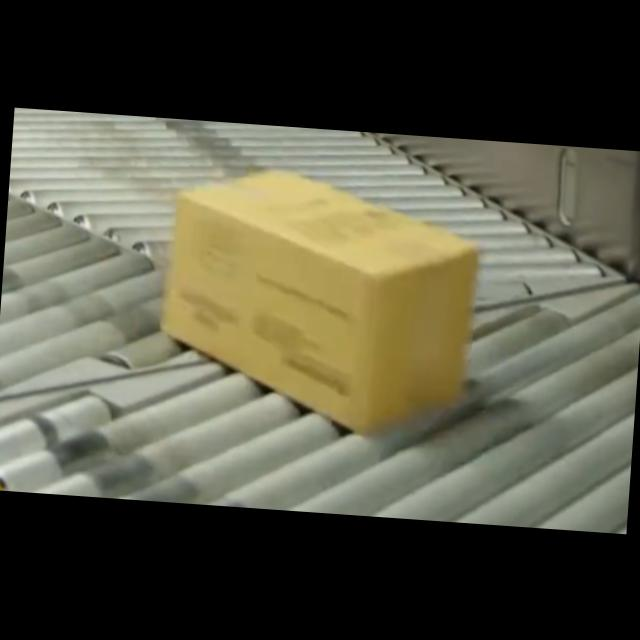box: (153, 160, 480, 435)
